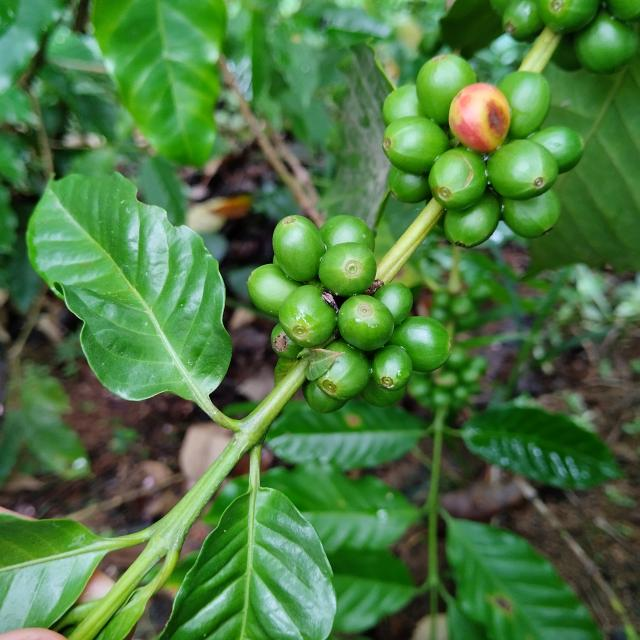green: (488, 139, 559, 200), (417, 53, 477, 124), (575, 10, 640, 73), (383, 115, 450, 174), (429, 146, 488, 210), (272, 215, 326, 282), (498, 71, 552, 138), (279, 285, 336, 348), (388, 317, 451, 372), (444, 189, 502, 248), (315, 340, 371, 401), (338, 295, 395, 351), (319, 242, 377, 296), (503, 188, 562, 238), (247, 264, 302, 317), (529, 125, 585, 173), (319, 215, 375, 251), (539, 0, 601, 32), (372, 345, 413, 391), (383, 83, 425, 124), (374, 282, 413, 326), (503, 0, 545, 40), (388, 166, 432, 203), (302, 381, 348, 414)
red: (449, 82, 512, 153)
